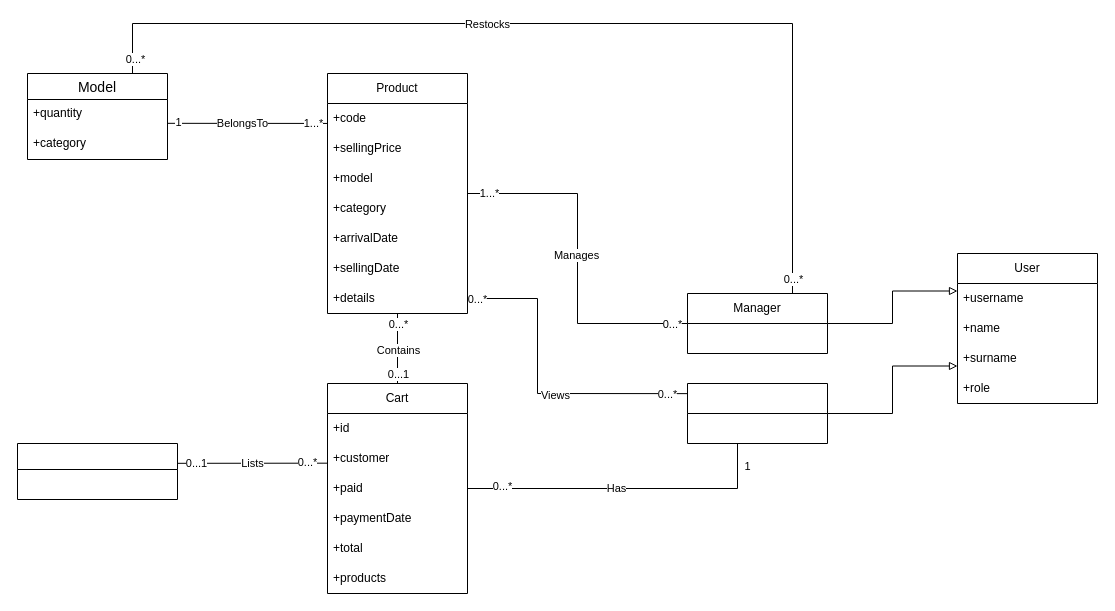
Some shapes in this 1115 by 611 pixel diagram are drawn without their labels. The shapes that lost their labels are listed below. From the top down, each one's centre as x and y in pixels, then its label:
At point 757,413: "Customer".
At point 97,471: "Cart History".
